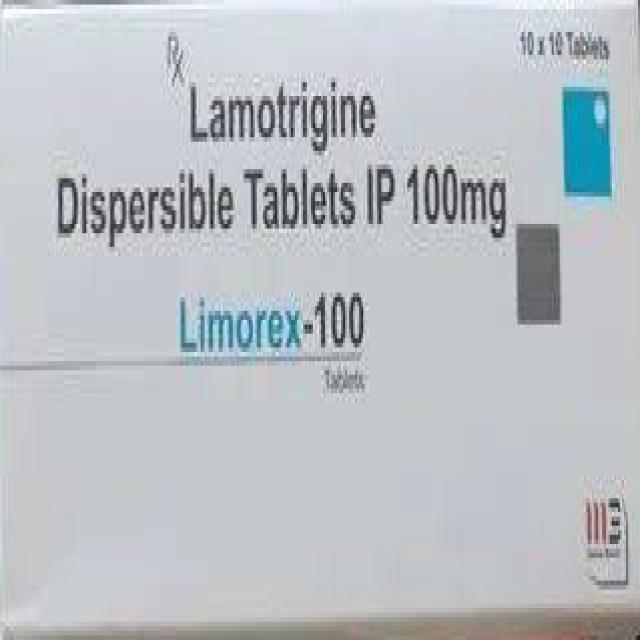drug-name: (178, 289, 372, 352)
